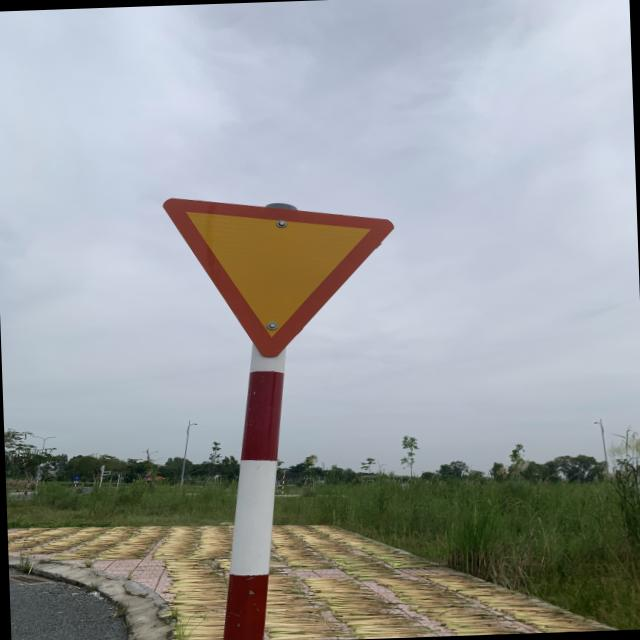Gioi_Han_Toc_Do_25: (162, 190, 400, 359)
